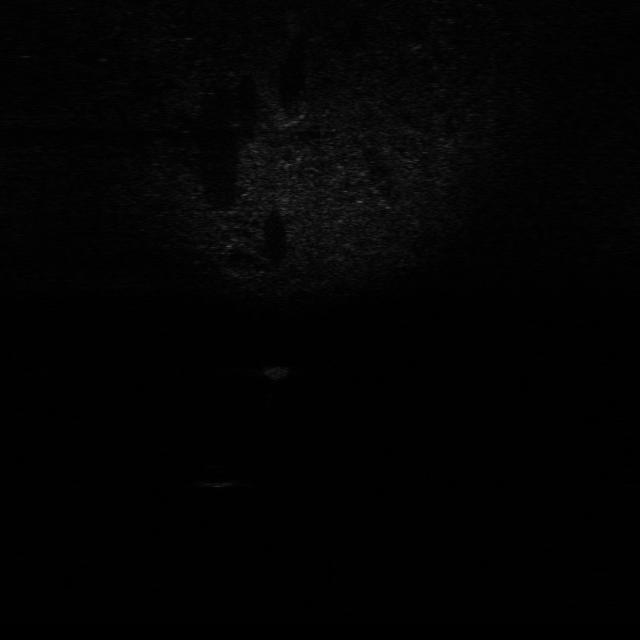ball: (197, 463, 241, 489)
cube: (259, 360, 293, 380)
